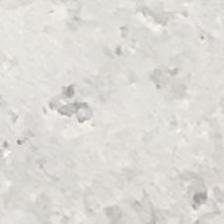Non_Crack: (22, 27, 224, 206)
